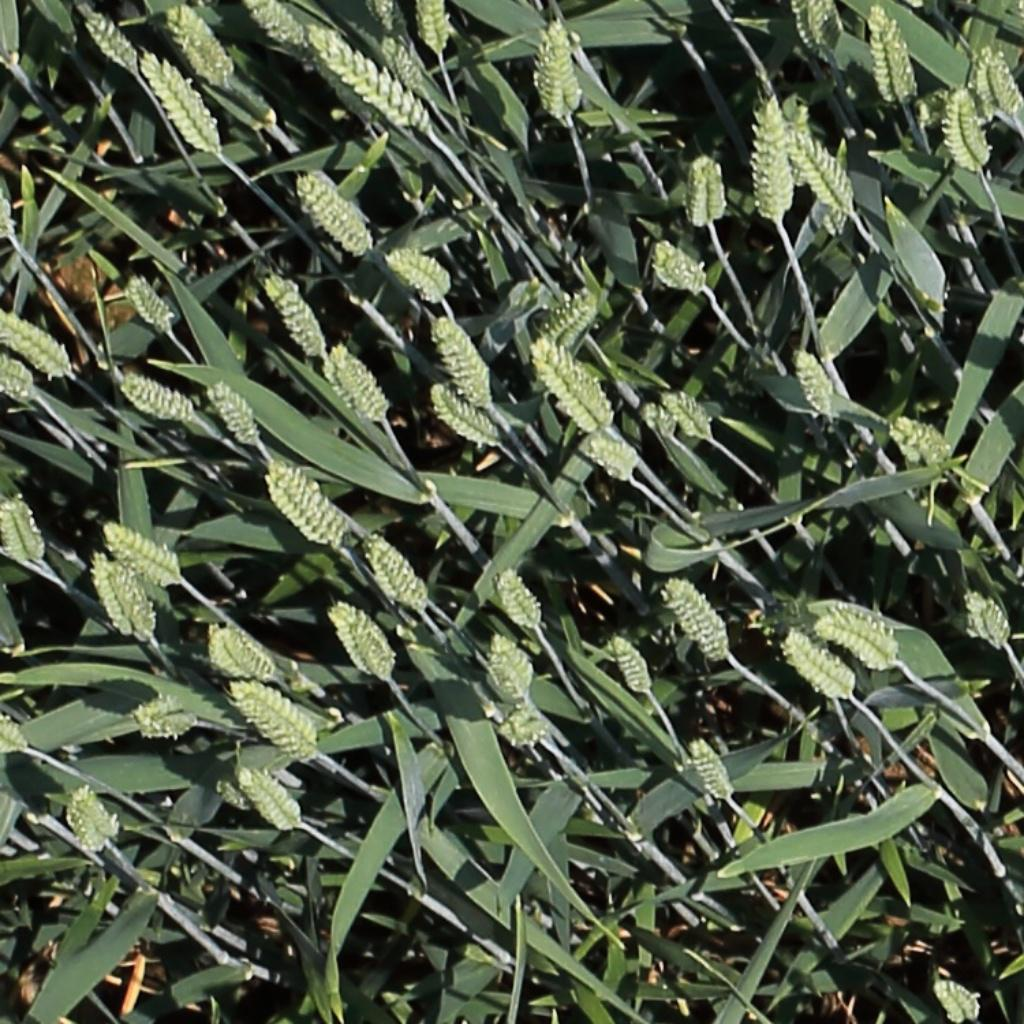0-0: (312, 25, 447, 141), (138, 45, 228, 163), (742, 86, 810, 227), (224, 677, 327, 764), (786, 114, 864, 215), (533, 344, 617, 437), (89, 550, 160, 653), (165, 4, 248, 91), (804, 601, 909, 667), (775, 626, 861, 706), (266, 465, 349, 546), (296, 169, 374, 255), (660, 573, 734, 663), (260, 268, 330, 361), (430, 311, 494, 409), (530, 21, 588, 128), (79, 5, 155, 84), (0, 304, 75, 384), (102, 516, 183, 588), (243, 0, 319, 76), (364, 528, 430, 614), (868, 5, 924, 105), (119, 369, 204, 429), (329, 600, 391, 682), (380, 242, 457, 305), (940, 82, 993, 173), (430, 380, 501, 447), (236, 765, 303, 835), (483, 624, 543, 701), (335, 346, 393, 425), (64, 779, 125, 854), (975, 46, 1024, 138), (203, 375, 263, 449), (322, 342, 375, 425), (679, 143, 728, 232), (123, 690, 205, 743), (534, 288, 602, 351), (205, 620, 276, 680), (785, 0, 847, 65), (885, 413, 952, 472), (686, 734, 738, 809), (793, 342, 841, 423), (494, 561, 546, 635), (0, 489, 47, 565), (653, 238, 713, 295), (126, 271, 177, 337), (574, 434, 645, 481), (962, 587, 1013, 652), (610, 632, 657, 699), (662, 384, 714, 443), (378, 36, 428, 93), (499, 700, 552, 752), (932, 977, 981, 1024), (413, 0, 449, 61), (362, 0, 409, 43), (633, 396, 676, 443), (0, 351, 35, 401), (0, 175, 22, 250), (214, 780, 258, 816), (0, 709, 29, 756), (823, 198, 848, 238)
